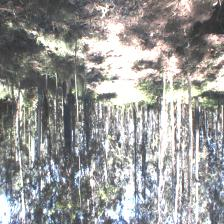trunktrack_idkeyframe: (63, 95, 72, 145), (193, 97, 199, 149)
